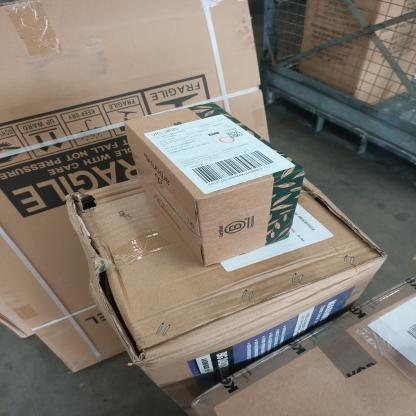label: (145, 114, 294, 195)
package: (0, 0, 269, 374), (66, 179, 386, 400), (180, 275, 416, 416), (125, 101, 306, 267)
